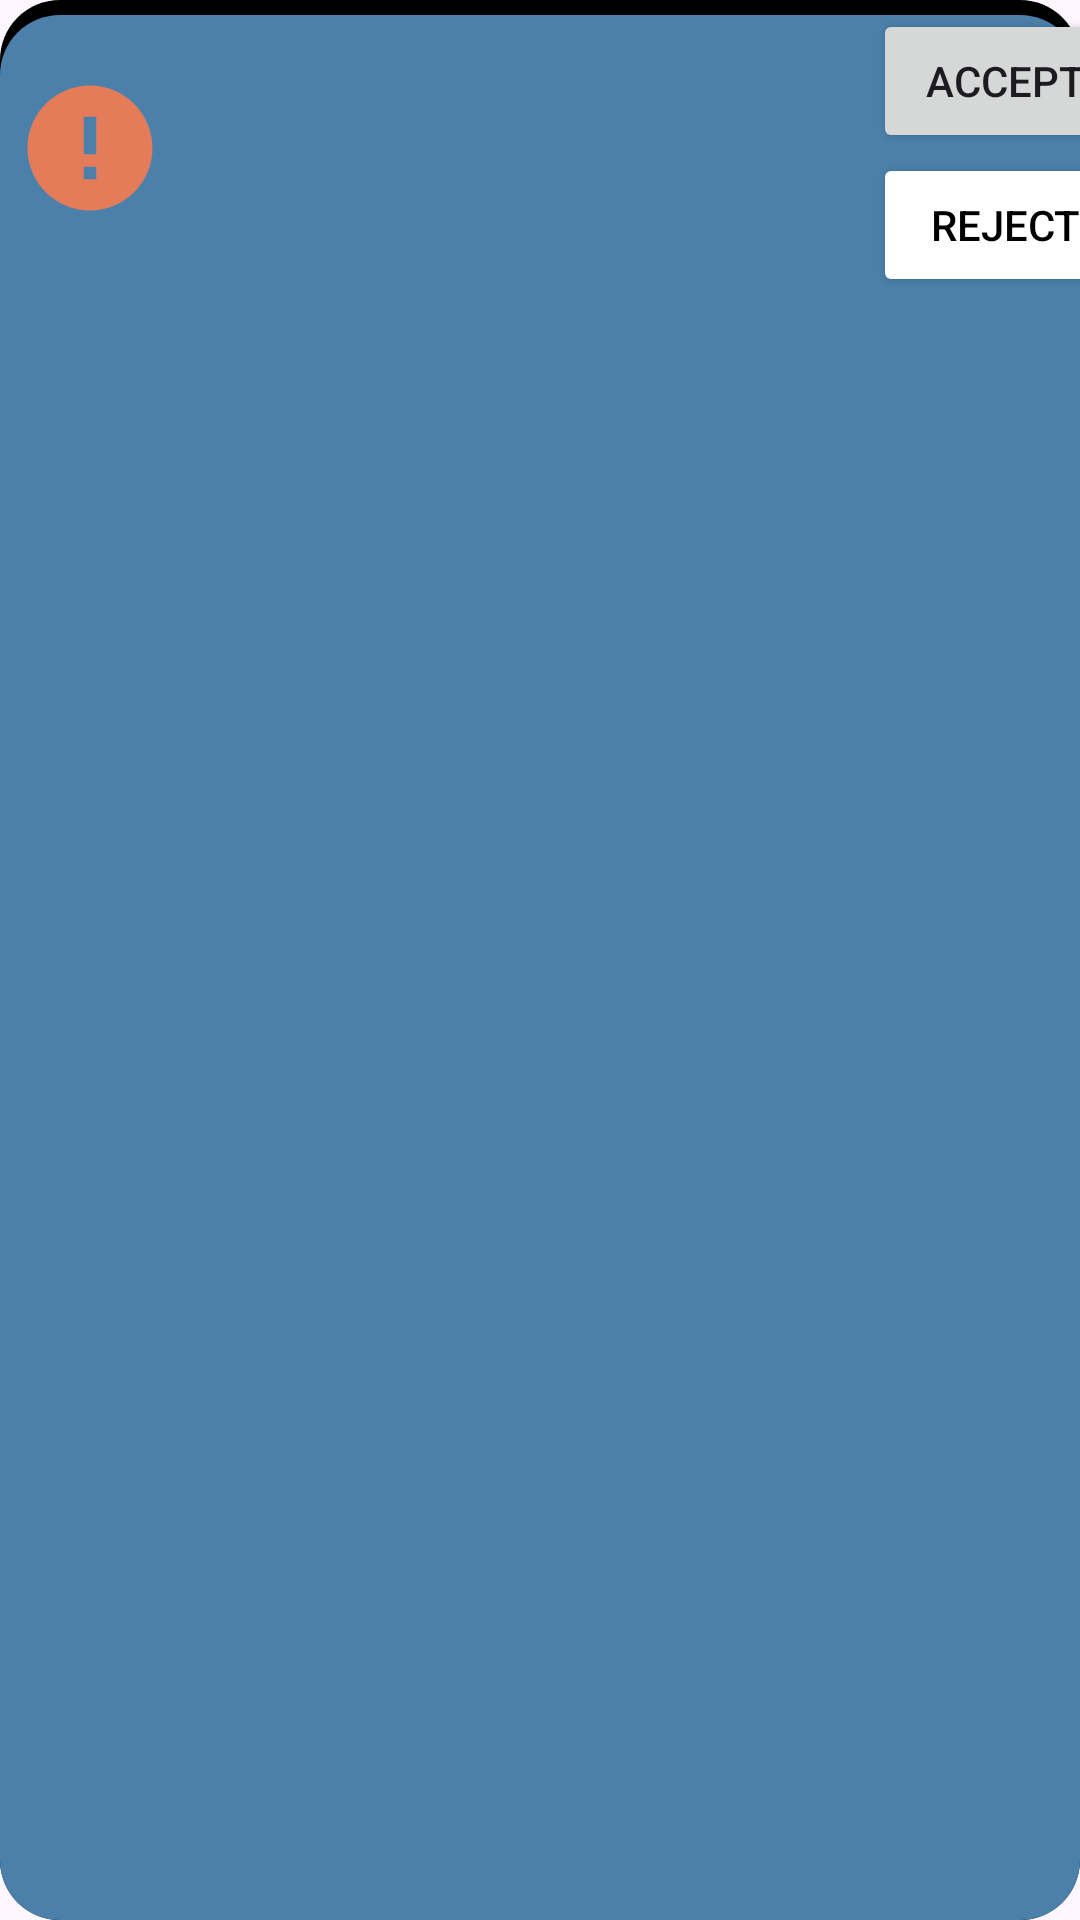

Icon click points for this 1080 × 1920 phone screenshot, format [x,y]:
error: [90,148]
